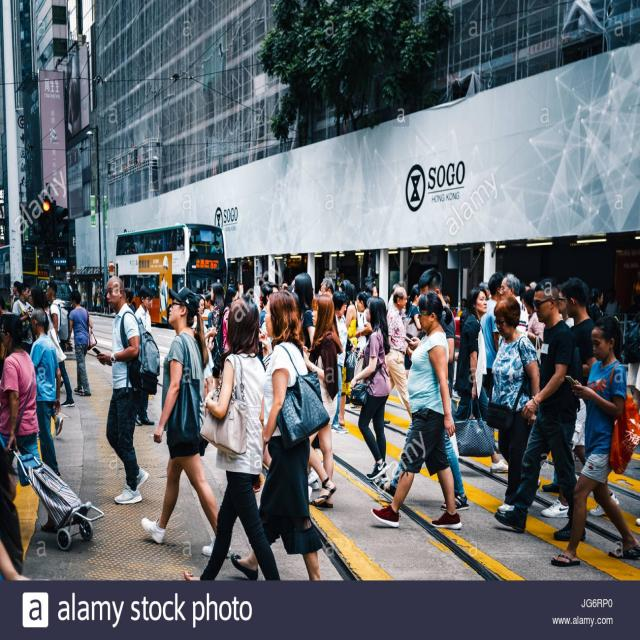body: (230, 288, 331, 581), (182, 293, 281, 581), (135, 284, 234, 561), (492, 272, 588, 544), (372, 265, 473, 517), (368, 288, 464, 533), (546, 320, 639, 568), (538, 276, 623, 522), (234, 268, 621, 316), (101, 274, 162, 510), (0, 310, 60, 542), (485, 296, 541, 515), (452, 284, 509, 476), (300, 291, 340, 513), (346, 294, 393, 482), (26, 306, 62, 482), (28, 284, 66, 436), (381, 284, 414, 426), (42, 280, 76, 410), (63, 288, 98, 398), (330, 290, 356, 434), (624, 304, 640, 530), (0, 448, 26, 584), (119, 262, 187, 314), (480, 270, 506, 402), (190, 293, 218, 415), (108, 230, 221, 260), (338, 278, 360, 428), (133, 284, 156, 426), (290, 272, 318, 356), (499, 272, 530, 344), (401, 283, 424, 380), (352, 291, 373, 388), (521, 288, 546, 365), (208, 282, 225, 389), (11, 283, 35, 356), (221, 284, 239, 354), (76, 284, 110, 314), (586, 287, 605, 328), (203, 292, 216, 329), (123, 286, 136, 314), (11, 280, 21, 314), (0, 296, 10, 314)
